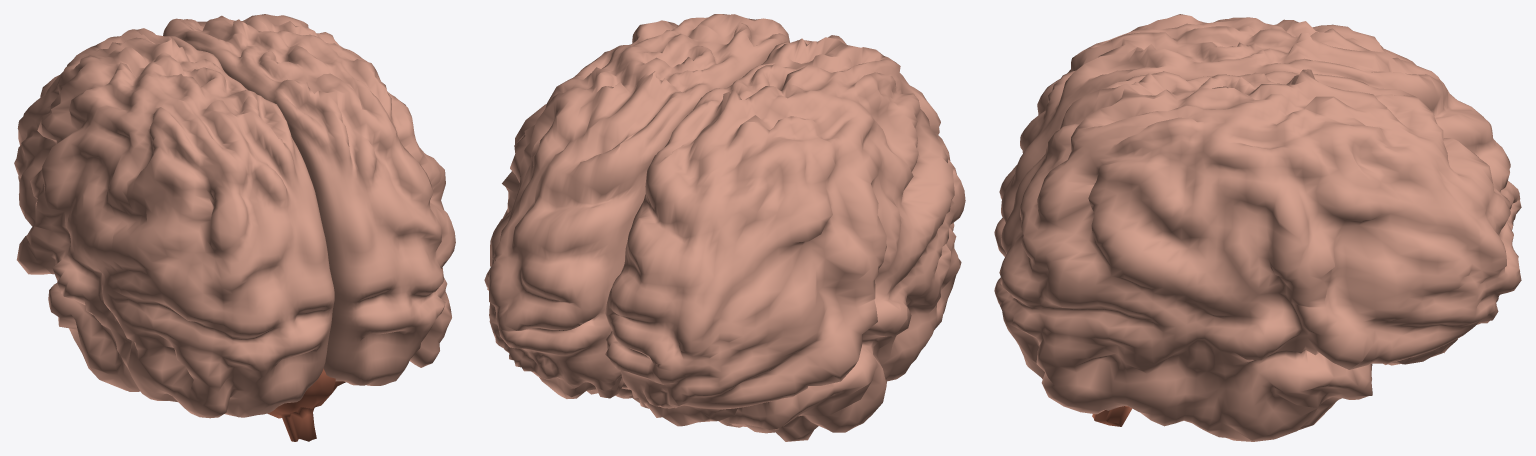
File: Brain.fbx
3 renders of one model, left to right at view 1: azimuth 30°, elevation 25°; view 2: azimuth 150°, elevation 25°; view 3: azimuth 270°, elevation 25°, orthographic. The views are drawn at different scales.
Visible parts, largest first — view 1: Cube, Sphere; view 2: Cube; view 3: Cube, Sphere.
Boxes of the visible parts, bbox=[...] form: Cube: bbox=[14, 14, 455, 418]; Sphere: bbox=[267, 368, 345, 441]; Cube: bbox=[484, 14, 965, 441]; Cube: bbox=[994, 14, 1521, 441]; Sphere: bbox=[1092, 406, 1132, 426].
Size of the model in its own units: 0.5014 by 0.4829 by 0.6217.
